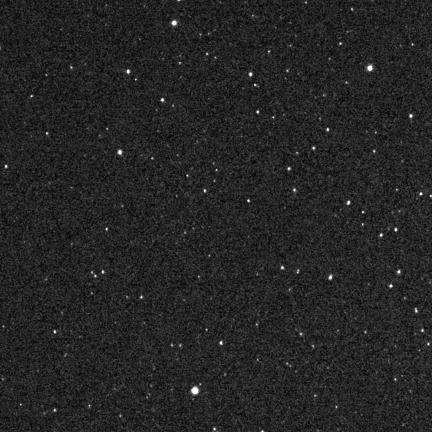blob: (191, 387, 199, 395), (172, 21, 178, 27), (117, 150, 122, 155)
